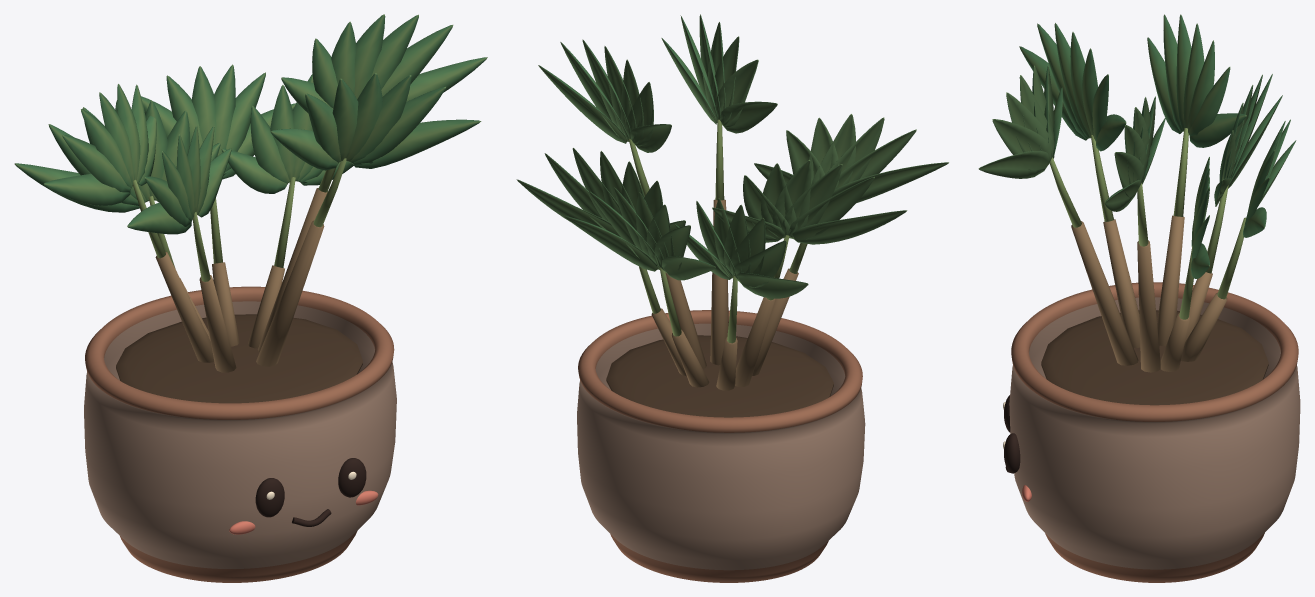
Rendered from lady-palm-v1.glb.
3 views of the same model, side by side, from view 1: azimuth 30°, elevation 25°; view 2: azimuth 150°, elevation 25°; view 3: azimuth 270°, elevation 25° (orthographic). The views are drawn at different scales.
Parts seen in each view (by area): view 1: Lady palm split fans on cane clumps, Wheel-thrown ceramic, Soil, Eye, Eye.001; view 2: Lady palm split fans on cane clumps, Wheel-thrown ceramic, Soil; view 3: Wheel-thrown ceramic, Lady palm split fans on cane clumps, Soil, Eye.001.
Part boxes in pixels (bbox=[...]): Lady palm split fans on cane clumps: bbox=[14, 14, 487, 372]; Wheel-thrown ceramic: bbox=[84, 286, 396, 582]; Soil: bbox=[116, 314, 362, 403]; Eye: bbox=[255, 478, 284, 517]; Eye.001: bbox=[338, 458, 366, 497]; Lady palm split fans on cane clumps: bbox=[516, 14, 948, 390]; Wheel-thrown ceramic: bbox=[577, 310, 865, 582]; Soil: bbox=[606, 335, 833, 417]; Wheel-thrown ceramic: bbox=[1009, 282, 1300, 582]; Lady palm split fans on cane clumps: bbox=[978, 14, 1296, 372]; Soil: bbox=[1041, 310, 1268, 405]; Eye.001: bbox=[1004, 433, 1020, 473].
Size of the model in its own units: 2.48 by 2.81 by 1.65.
